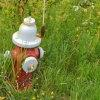a fire hydrant: (6, 17, 46, 90)
